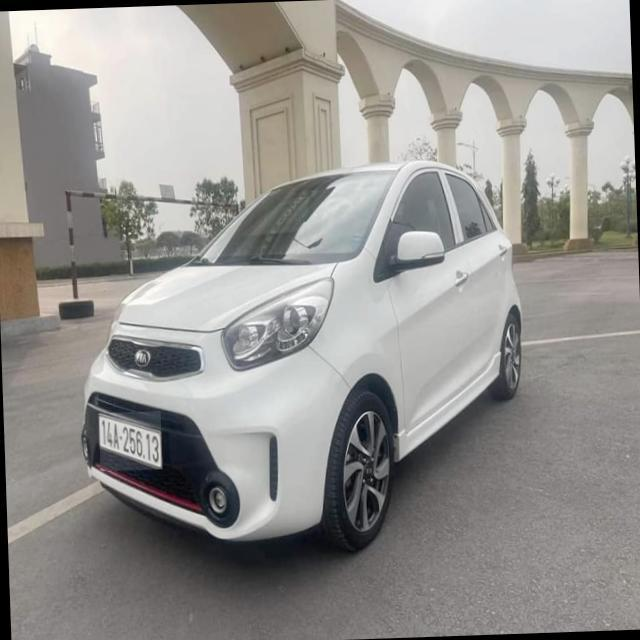car: (81, 162, 531, 567)
plate: (92, 412, 165, 473)
